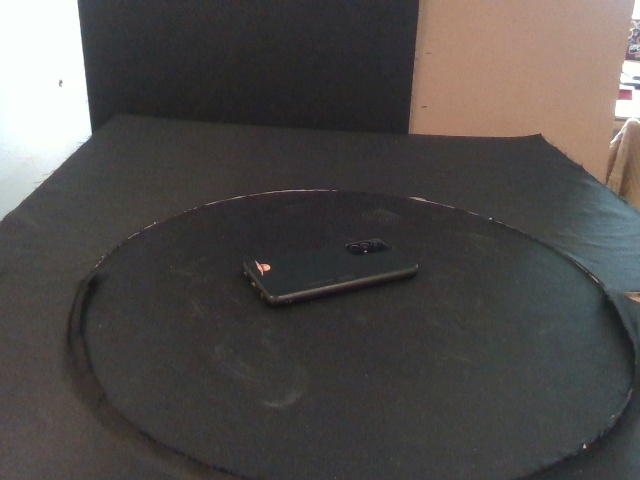phone: (243, 236, 419, 304)
